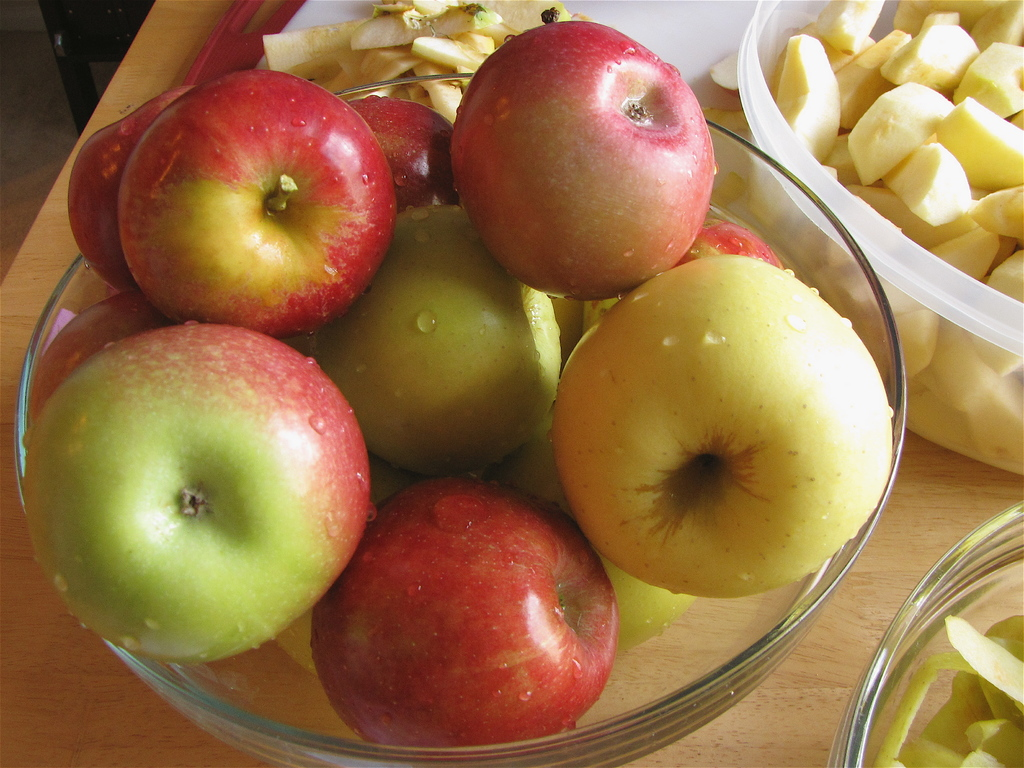Apple: (22, 68, 897, 760), (764, 0, 1023, 473), (25, 323, 373, 661), (451, 15, 713, 296)
